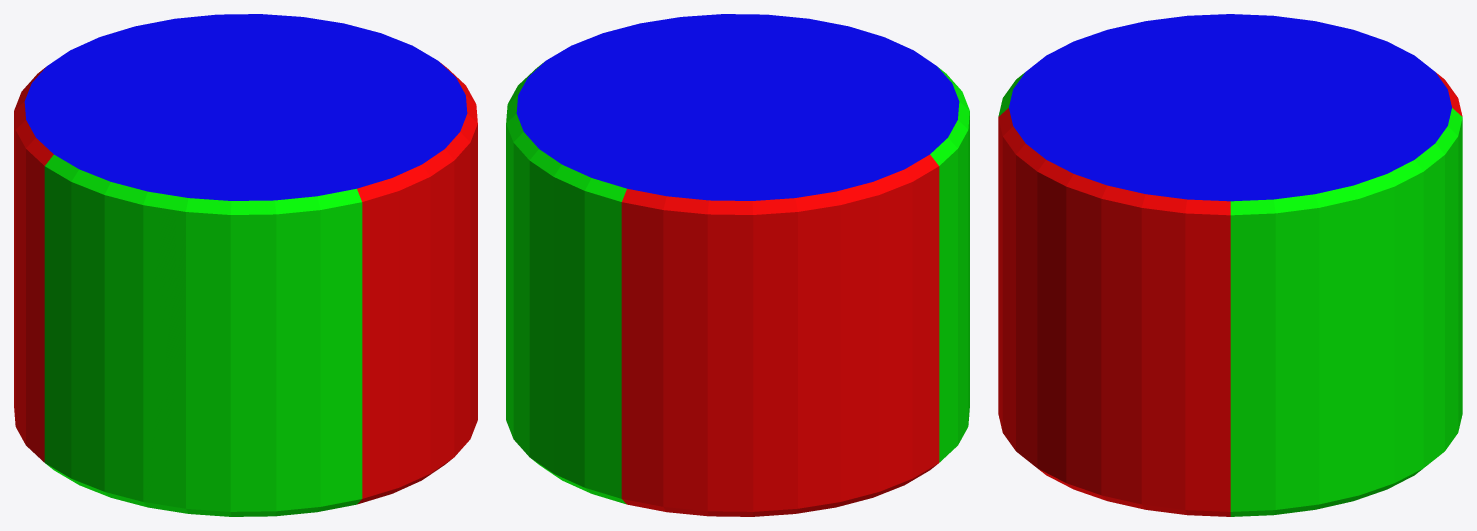
3 views of the same model, side by side, from view 1: azimuth 30°, elevation 25°; view 2: azimuth 150°, elevation 25°; view 3: azimuth 270°, elevation 25° (orthographic).
Parts seen in each view (by area): view 1: Cylinder; view 2: Cylinder; view 3: Cylinder.
Part boxes in pixels (x1,y1,x2,y2): Cylinder: (14,14,477,516); Cylinder: (506,14,969,516); Cylinder: (998,14,1462,516).
Size of the model in its own units: 0.08 by 0.08 by 0.06.
